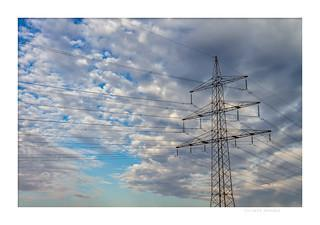power_tower: (167, 54, 279, 207)
